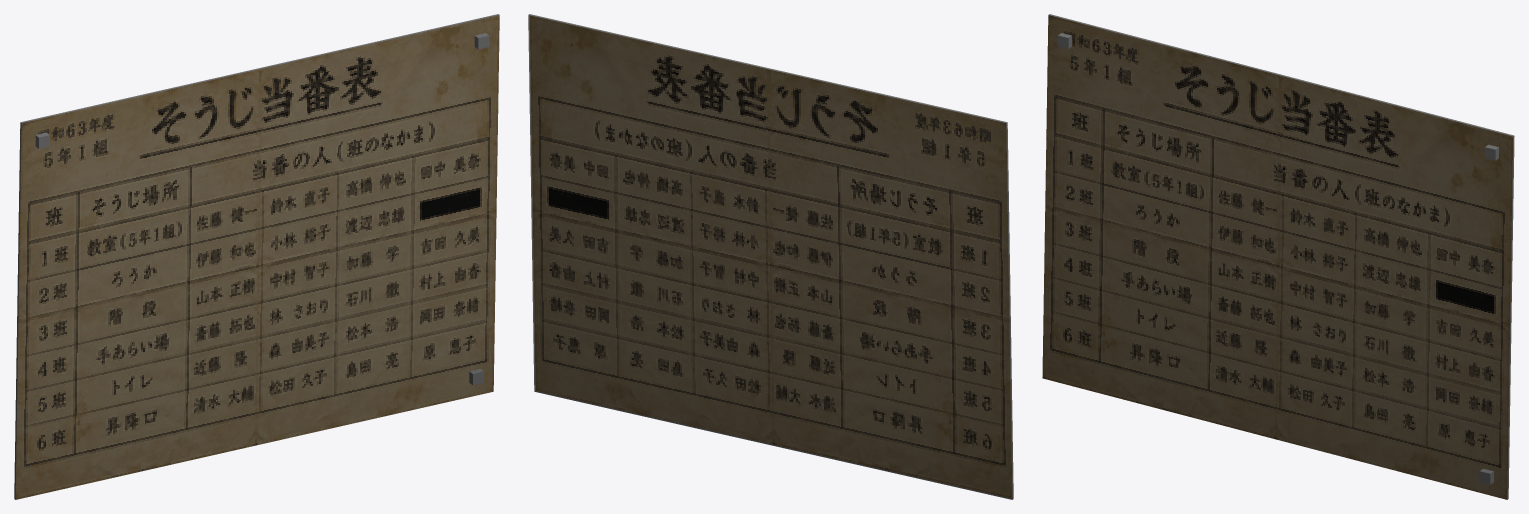
The model's file is prop_poster-touban-3.glb.
3 renders of one model, left to right at view 1: azimuth 30°, elevation 25°; view 2: azimuth 150°, elevation 25°; view 3: azimuth 330°, elevation 25°, orthographic. The views are drawn at different scales.
Parts seen in each view (by area): view 1: prop_poster-touban-3; view 2: prop_poster-touban-3; view 3: prop_poster-touban-3.
Part boxes in pixels (box(x1,y1,x2,y2)): prop_poster-touban-3: box(14, 14, 499, 499); prop_poster-touban-3: box(528, 14, 1013, 499); prop_poster-touban-3: box(1042, 14, 1514, 499).
Bounding box in the file's own units: 0.622 × 0.471 × 0.0115.
Materials: 2 (2 with a texture image).
